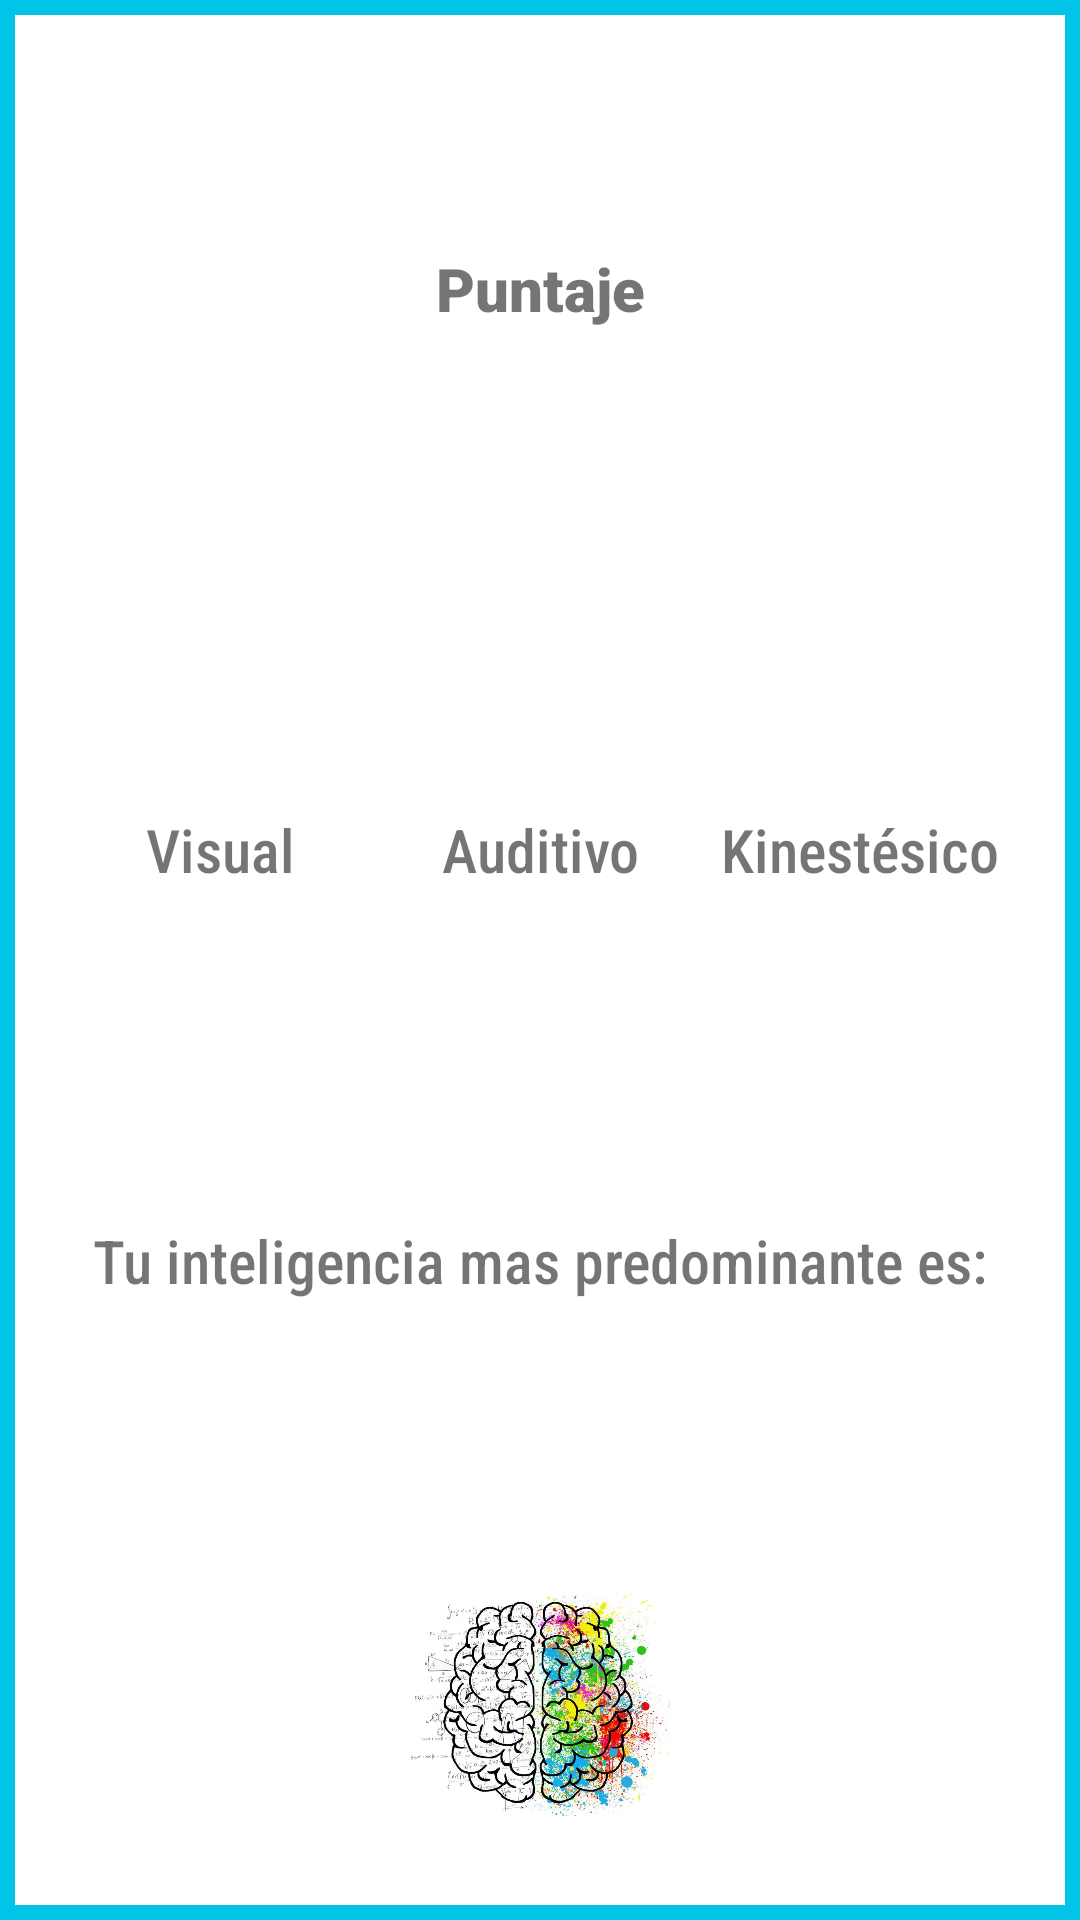

Screen size 1080 × 1920. Icon name, then its box in pixels as (x1, y1, x2, y2):
cerebro: (411, 1594, 670, 1816)
